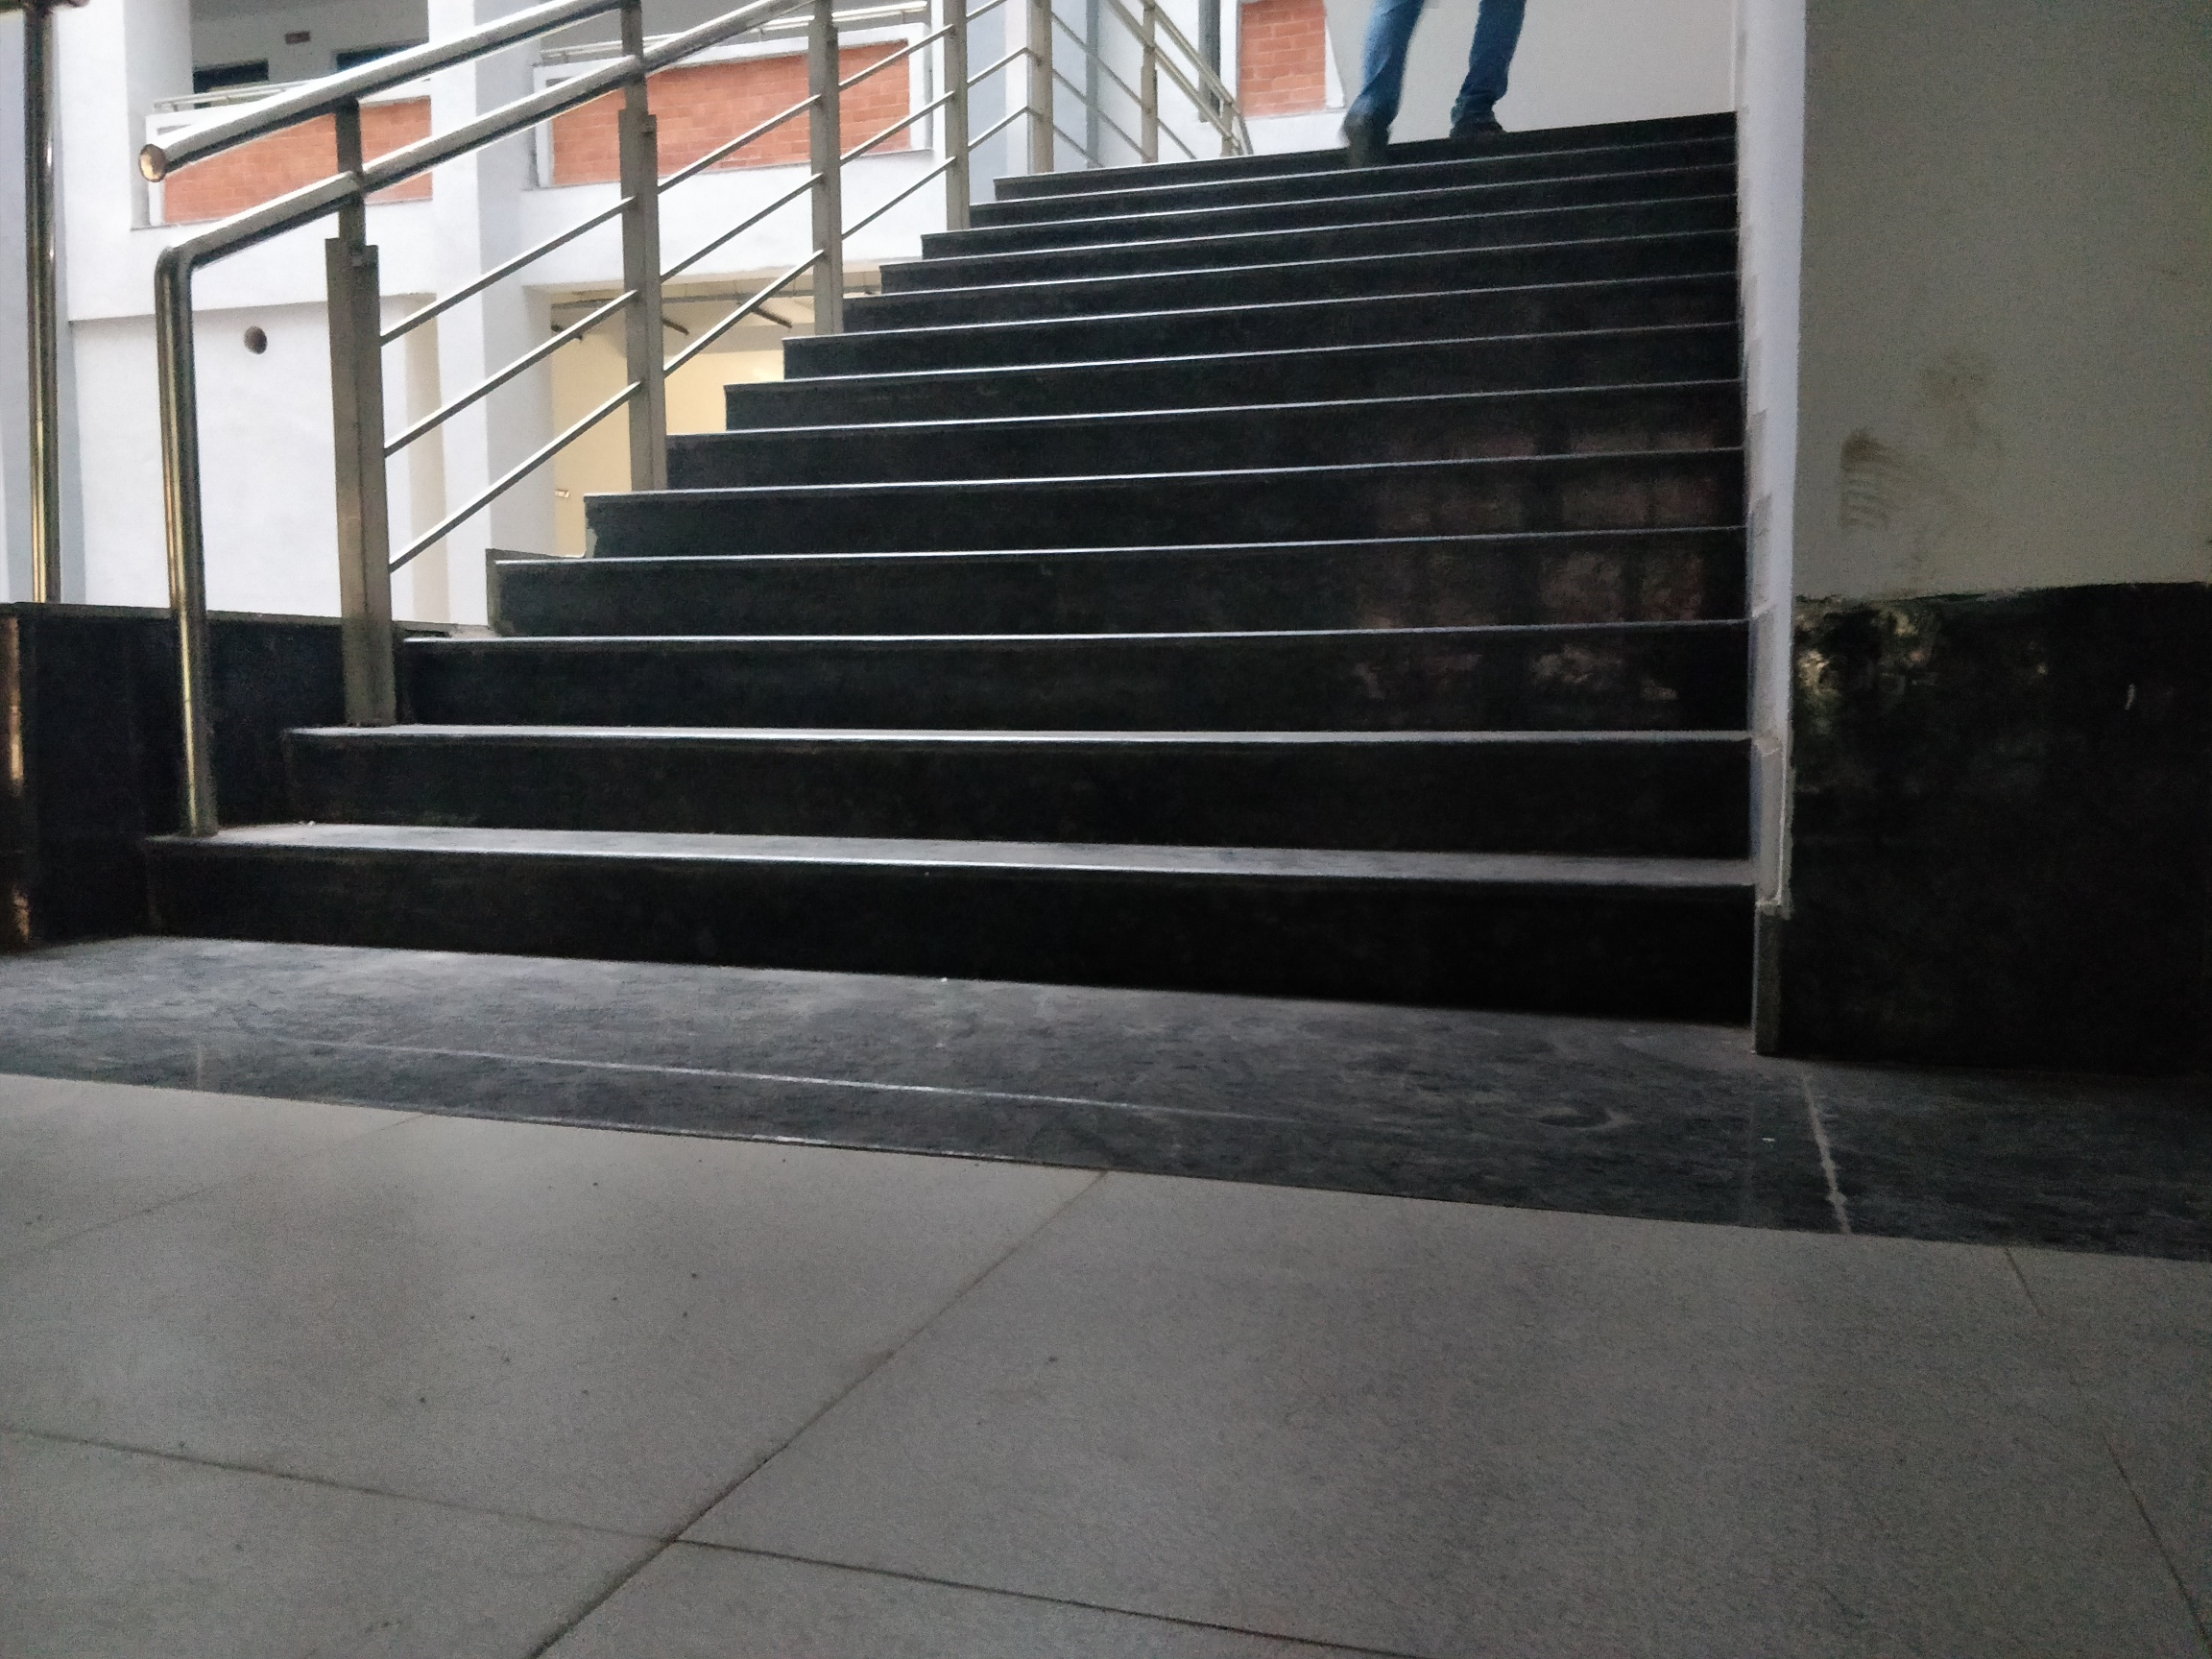stairs_up: (145, 98, 1730, 943)
